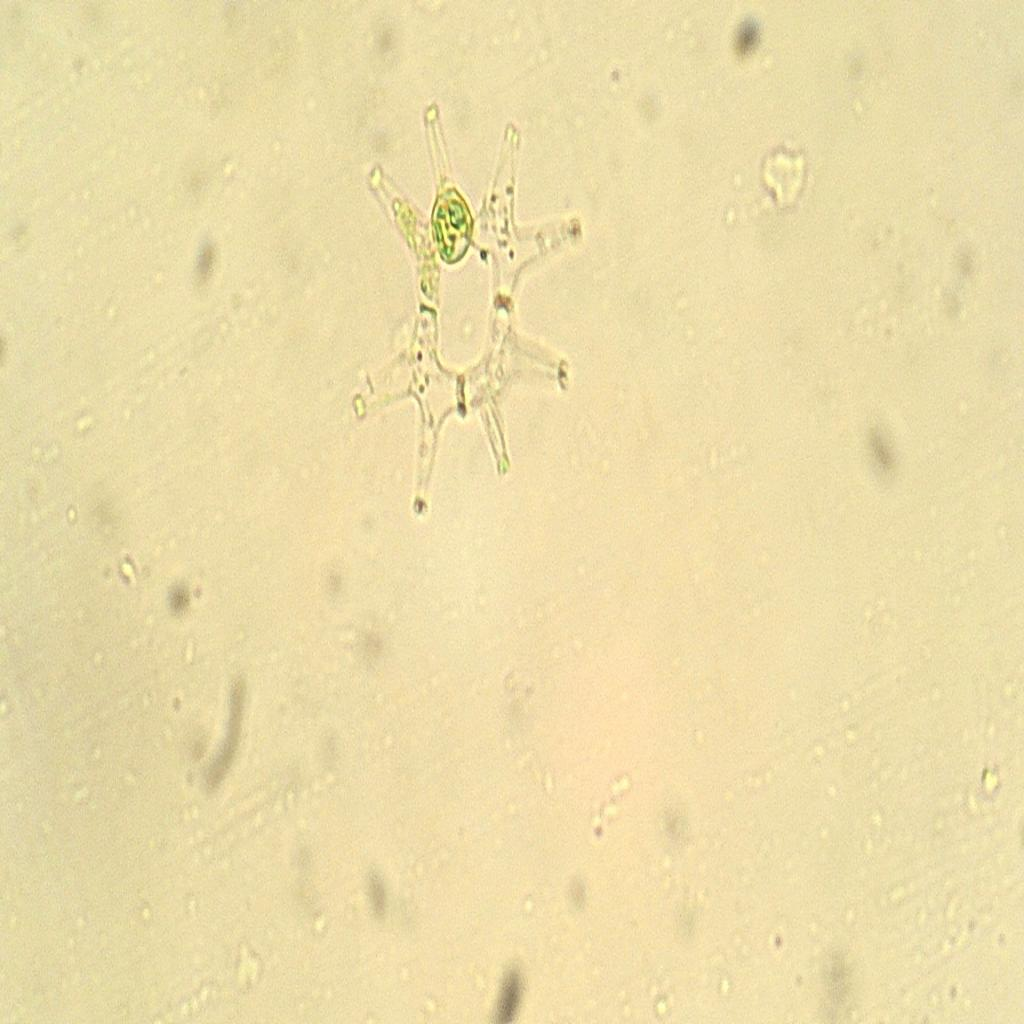Pediastrum_75TH: (341, 84, 600, 535)
